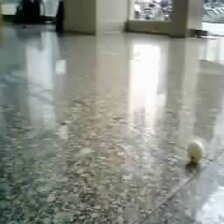w: (186, 140, 204, 162)
